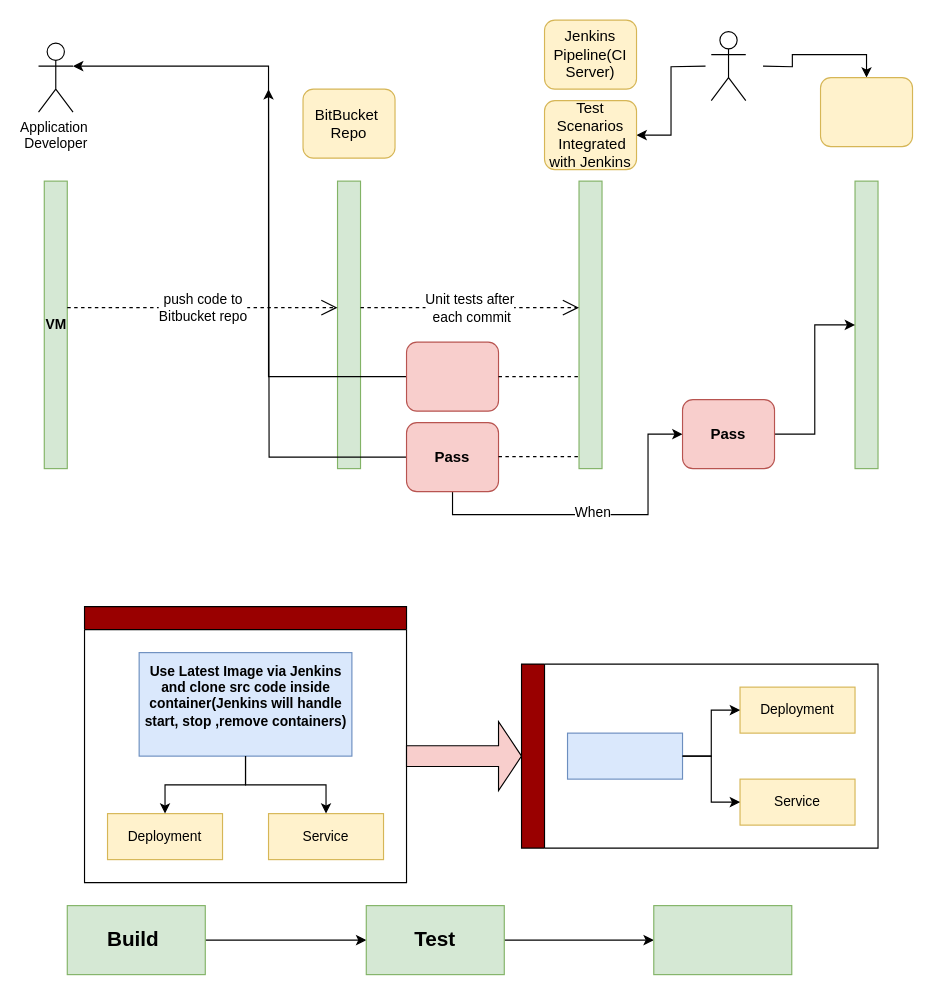
Image size: 933x995. Some labels were removed from this diagram. The box of each missing label's shape, as (x1, y1, x2, y2) in pixels:
Build Process: (83, 605, 407, 883)
Deploy: (653, 904, 792, 975)
Fail: (405, 341, 499, 411)
Jenkins-CICD: (566, 732, 683, 779)
Nexus Repo Push Artifacts: (520, 663, 878, 848)
Pipeline Developer: (710, 30, 746, 101)
Release Script: (819, 76, 913, 147)
